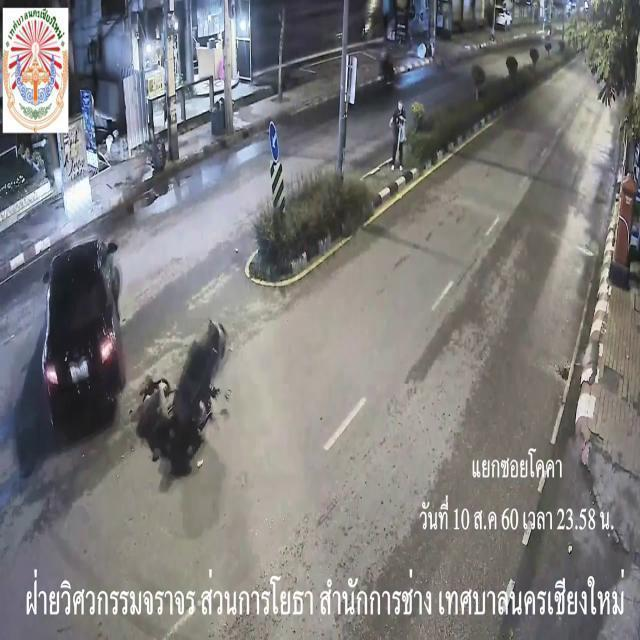accident: (40, 232, 232, 478)
